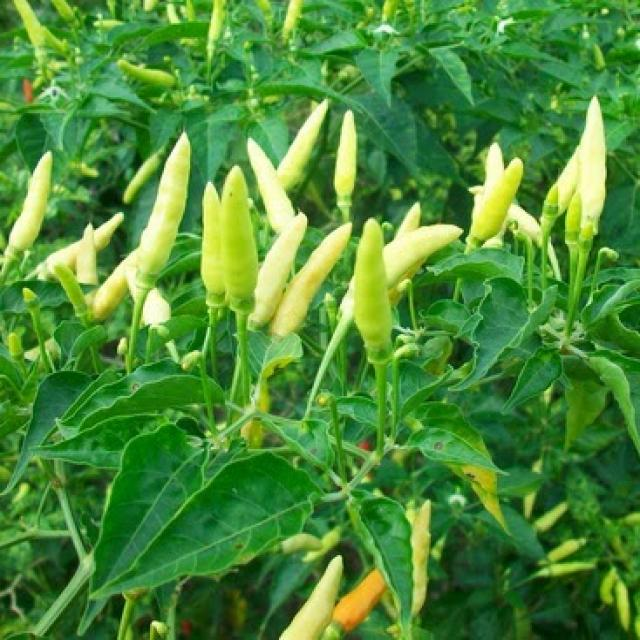green chilli: (270, 223, 351, 337), (138, 133, 192, 284), (249, 214, 307, 328), (3, 152, 51, 280), (354, 219, 394, 363), (221, 166, 258, 317), (277, 99, 330, 190), (579, 97, 609, 240), (335, 110, 357, 222)
